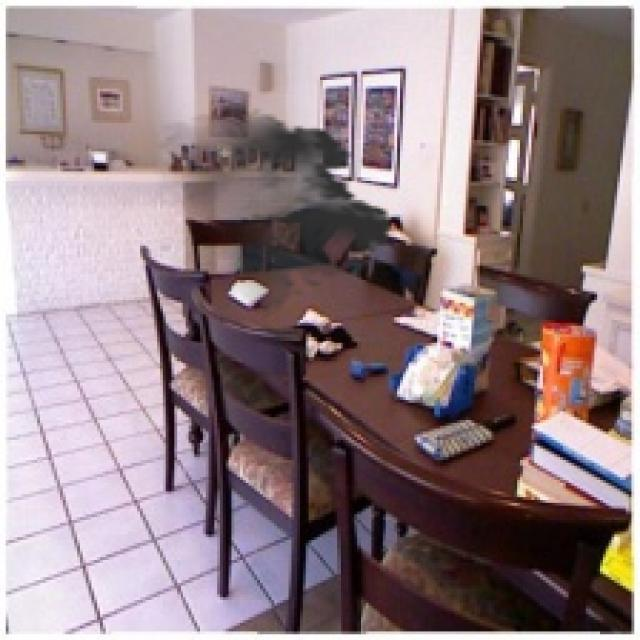Smoke: (146, 109, 403, 318)
